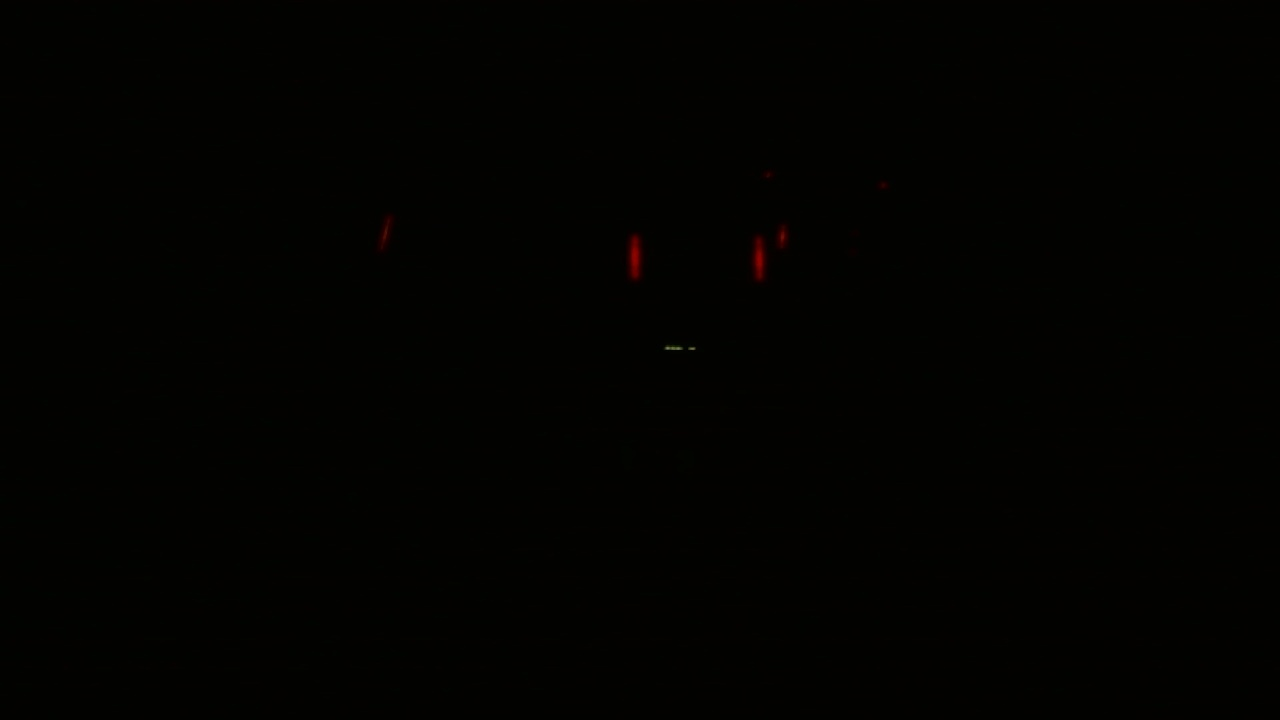pair1: (627, 222, 766, 286)
